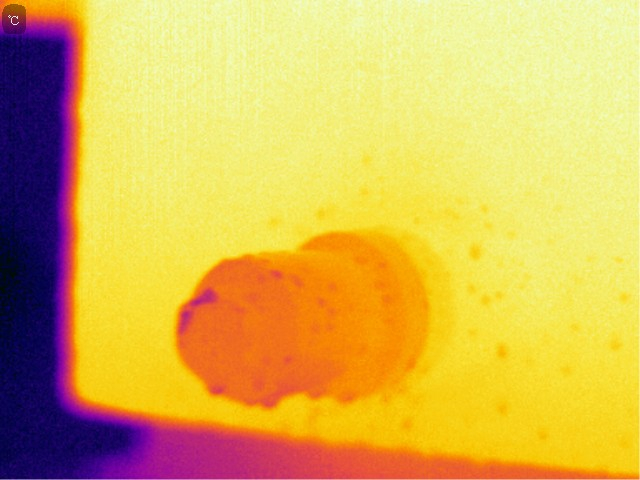Water: (337, 387, 359, 408), (202, 378, 223, 398), (304, 384, 326, 403), (258, 394, 283, 410), (267, 264, 285, 281)
